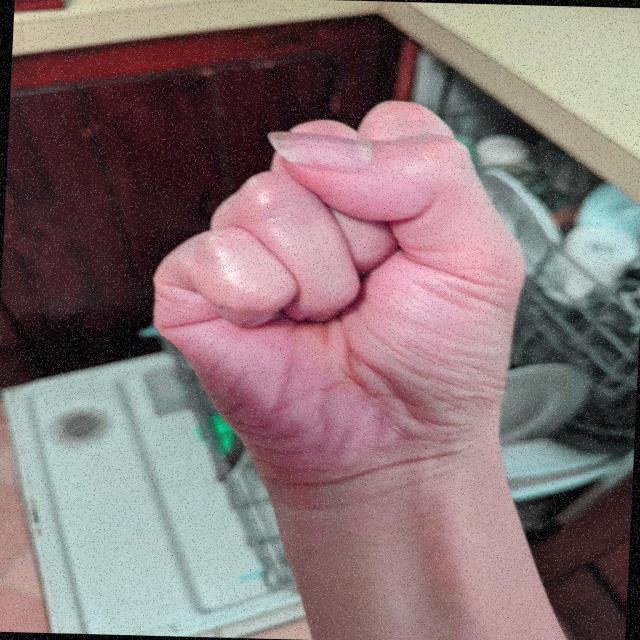S: (133, 90, 541, 510)
